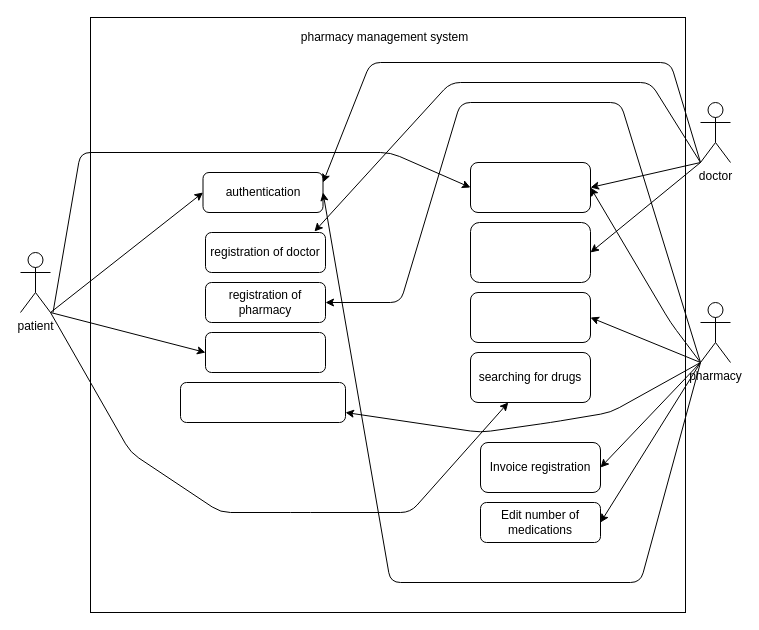
Some shapes in this 759 by 630 pixel diagram are drawn without their labels. Here are the shapes that lost their labels. From the top down, the box of each, then its label:
(470, 162, 590, 212): seeing prescription
(470, 222, 590, 282): Prescribing electronically
(470, 292, 590, 342): New drug registration
(204, 332, 326, 372): registration of patient
(180, 382, 346, 422): Registration of insurance contract ceiling
